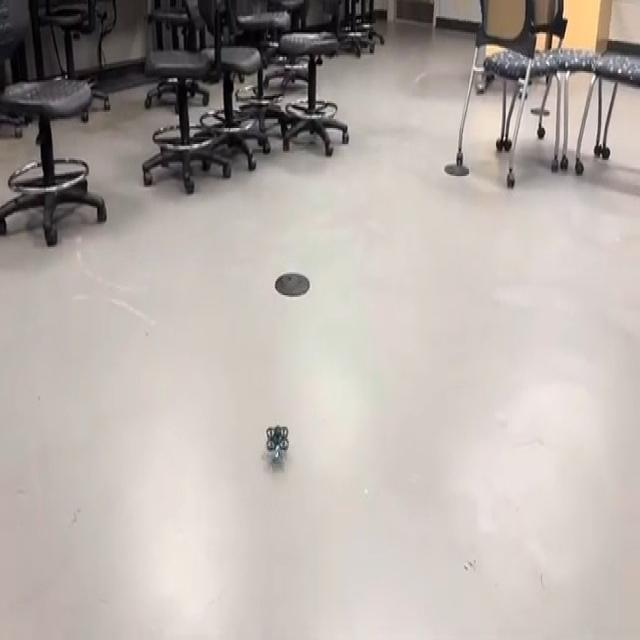drone: (258, 409, 298, 480)
